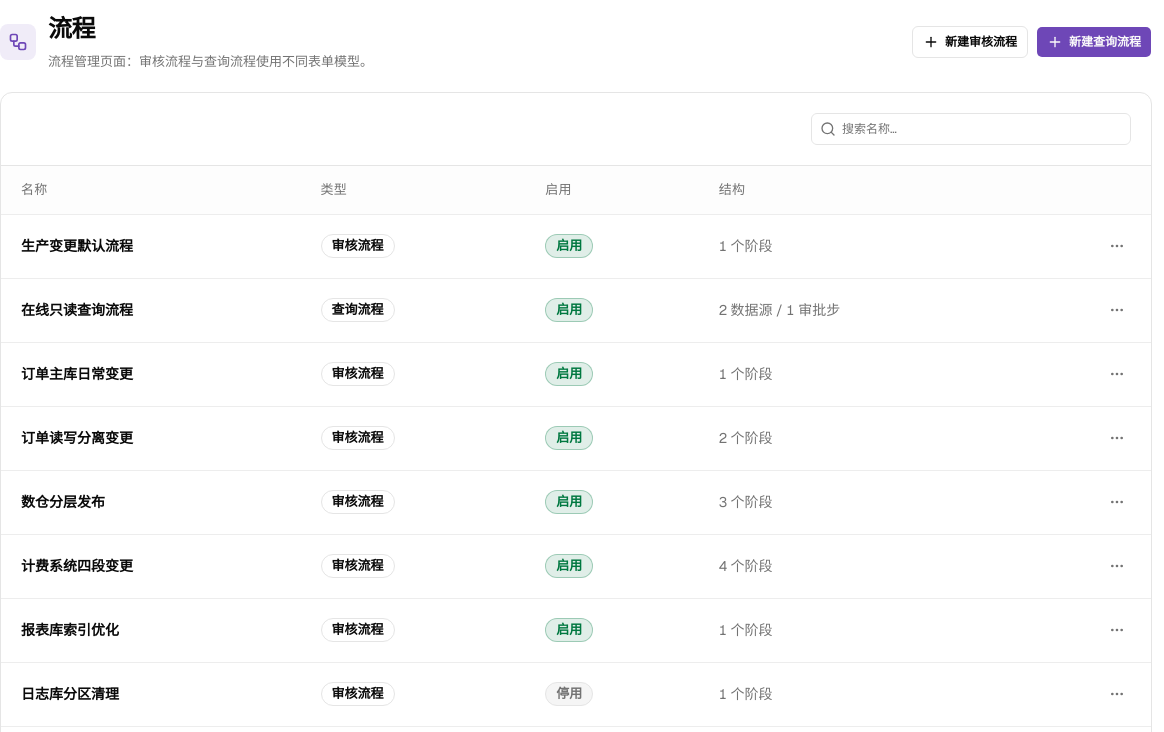
Test: admin table search (§18.37) › flows: filters by flow name
expect the heading "流程" is shown: met, box [48,13,95,44]
expect the row with test id "admin-flow-row-" is shown: met, box [1,214,1151,278]
Type "在线只读" into the field with test id "admin-flows-search" at (983, 129), box [836,113,1130,145]
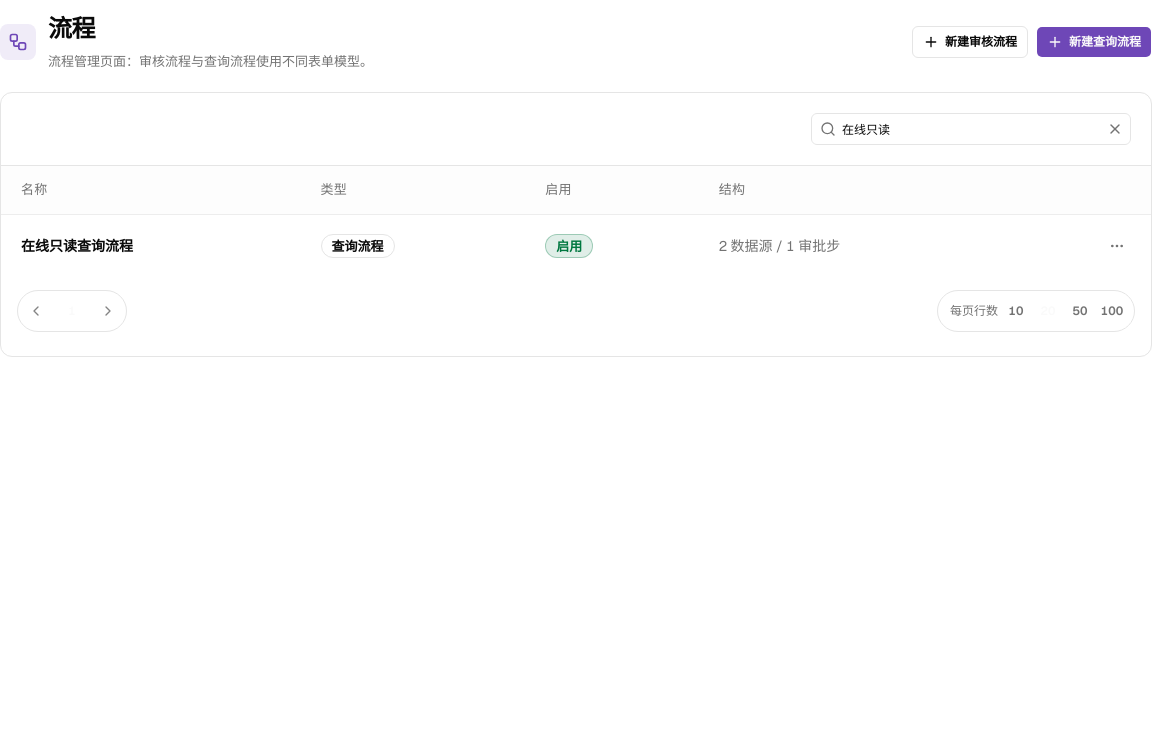
Replace the text in the field with test id "admin-flows-search" with "不存在" at (969, 129), box [836,113,1103,145]
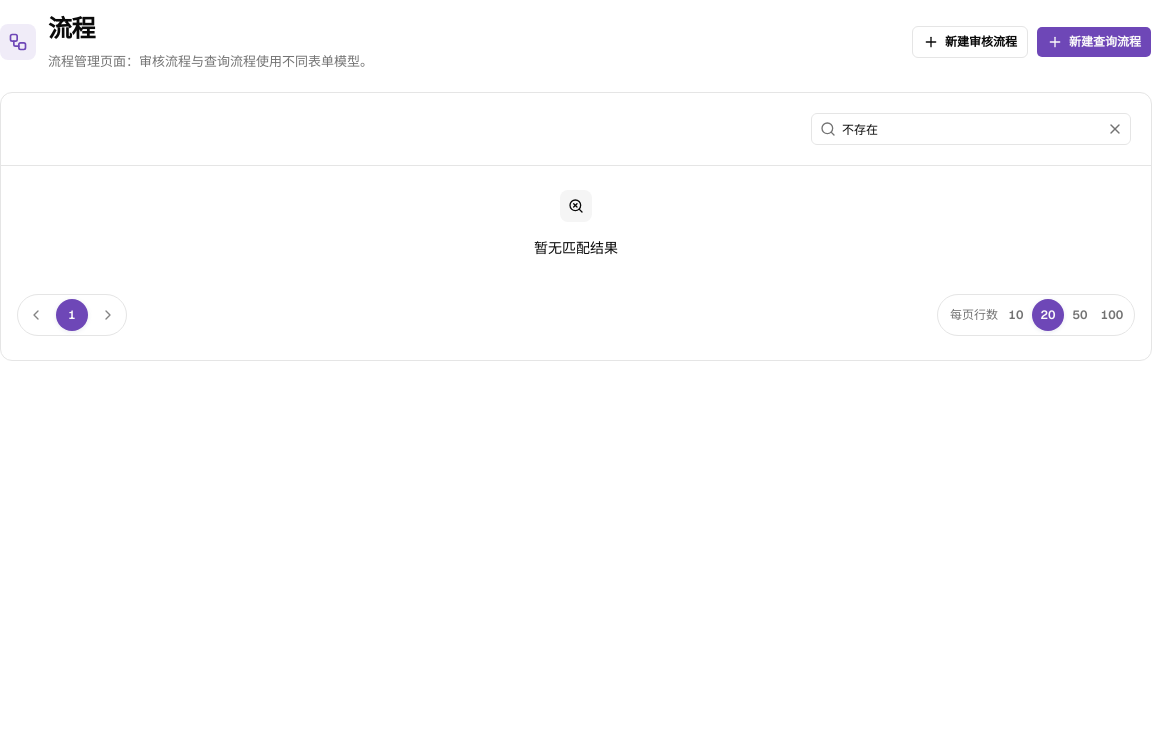
expect the text "暂无匹配结果" is shown: met, box [534,238,618,258]
